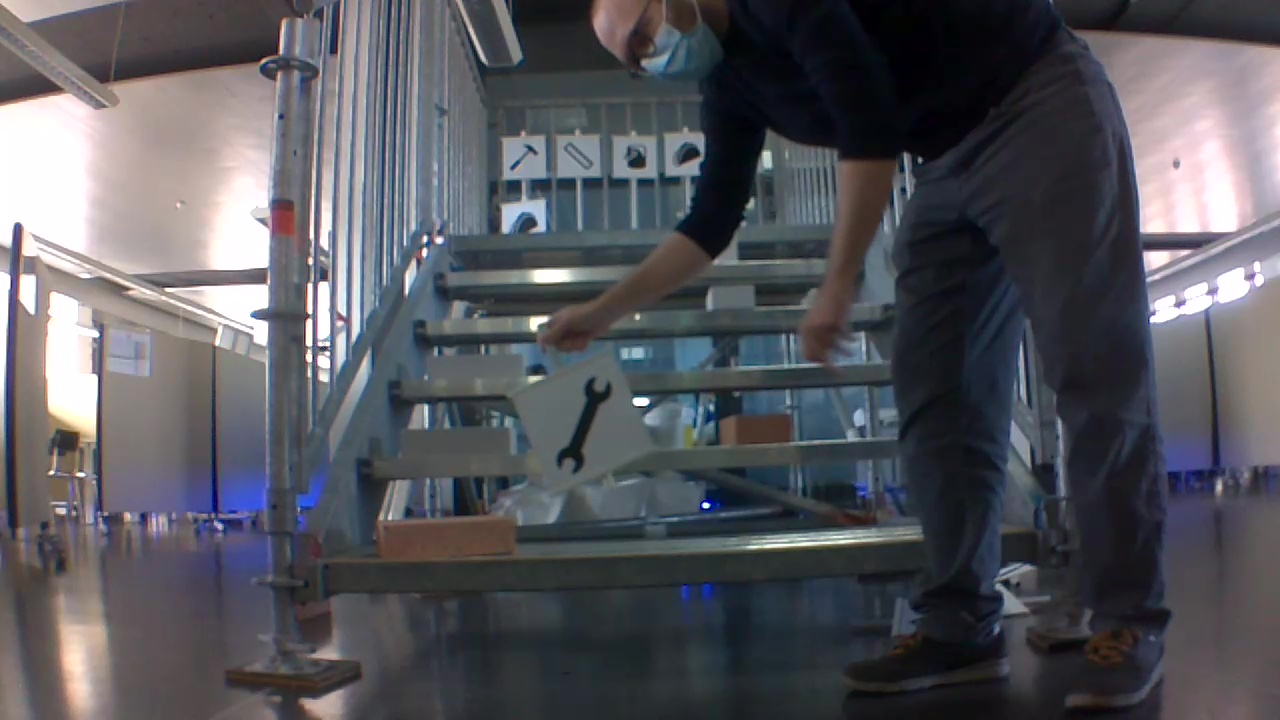brick: (377, 515, 515, 557), (404, 429, 512, 458), (427, 355, 524, 380), (719, 413, 793, 445), (705, 287, 755, 310)
bucket: (620, 138, 650, 171)
hammer: (503, 140, 542, 175)
ruler: (561, 141, 595, 170)
taco: (667, 139, 703, 168), (504, 207, 541, 233)
wrench: (549, 372, 614, 474)
